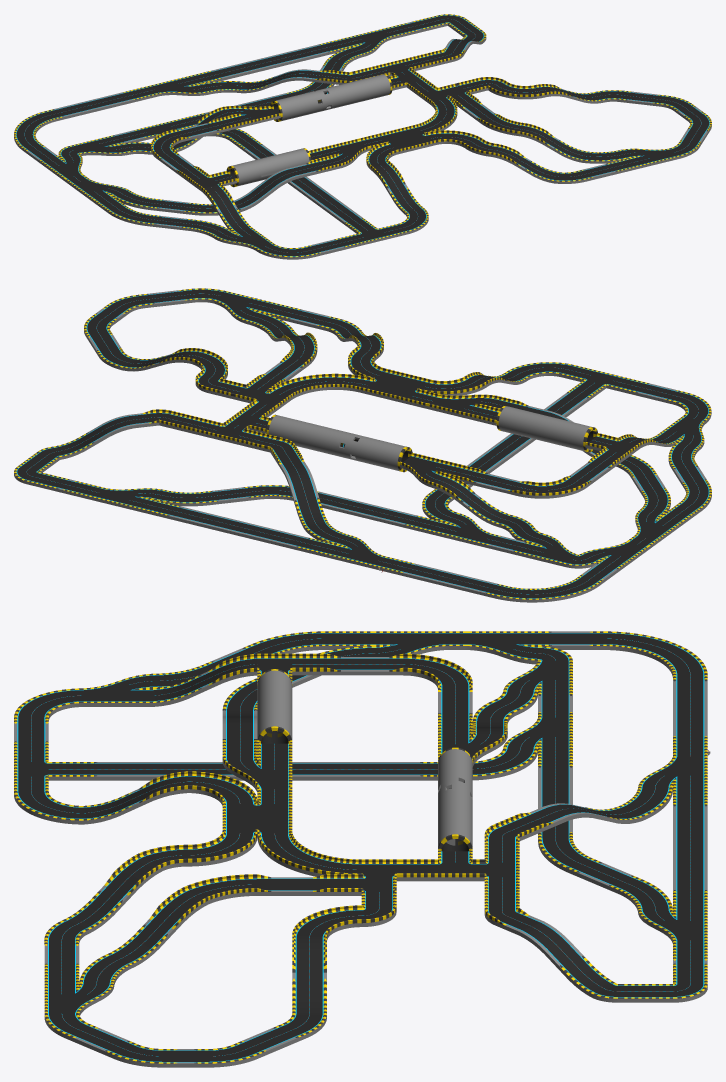
File: GCU Track w Pipes Fixed.fbx
3 views of the same model, one above another, from view 1: azimuth 30°, elevation 25°; view 2: azimuth 150°, elevation 25°; view 3: azimuth 270°, elevation 25° (orthographic). The views are drawn at different scales.
Visible parts, largest first — view 1: Wide Right Turn.012, Pipe Start.022, Pipe Start.024, Wide Right Turn.022, Wide Right Turn.021, Pipe Start.023, Wide Right Turn.020, Wide Right Turn.025, Wide Right Turn.027; view 2: Wide Right Turn.012, Pipe Start.024, Pipe Start.022, Wide Right Turn.022, Wide Right Turn.020, Wide Right Turn.027, Pipe Start.026, Wide Right Turn.029, Wide Right Turn.021, Wide Right Turn.025, Pipe Start.023; view 3: Wide Right Turn.012, Pipe Start.026, Pipe Start.023, Wide Right Turn.029, Wide Right Turn.025.
Part boxes in pixels (bbox=[...]): Wide Right Turn.012: bbox=[14, 14, 711, 259]; Pipe Start.022: bbox=[270, 96, 299, 121]; Pipe Start.024: bbox=[226, 161, 255, 187]; Wide Right Turn.022: bbox=[327, 83, 355, 108]; Wide Right Turn.021: bbox=[311, 87, 336, 112]; Pipe Start.023: bbox=[367, 74, 392, 98]; Wide Right Turn.020: bbox=[292, 92, 317, 117]; Wide Right Turn.025: bbox=[348, 78, 373, 103]; Wide Right Turn.027: bbox=[249, 157, 274, 182]; Wide Right Turn.012: bbox=[14, 288, 711, 602]; Pipe Start.024: bbox=[563, 422, 597, 452]; Pipe Start.022: bbox=[377, 442, 412, 472]; Wide Right Turn.022: bbox=[311, 425, 344, 455]; Wide Right Turn.020: bbox=[355, 436, 385, 466]; Wide Right Turn.027: bbox=[541, 416, 570, 446]; Pipe Start.026: bbox=[496, 405, 527, 435]; Wide Right Turn.029: bbox=[518, 411, 548, 440]; Wide Right Turn.021: bbox=[333, 431, 363, 460]; Wide Right Turn.025: bbox=[288, 420, 319, 450]; Pipe Start.023: bbox=[266, 414, 296, 439]; Wide Right Turn.012: bbox=[14, 631, 710, 1067]; Pipe Start.026: bbox=[257, 713, 292, 743]; Pipe Start.023: bbox=[438, 821, 472, 851]; Wide Right Turn.029: bbox=[257, 698, 292, 741]; Wide Right Turn.025: bbox=[438, 806, 472, 849].
Size of the model in its own units: 1177 by 67.68 by 803.
